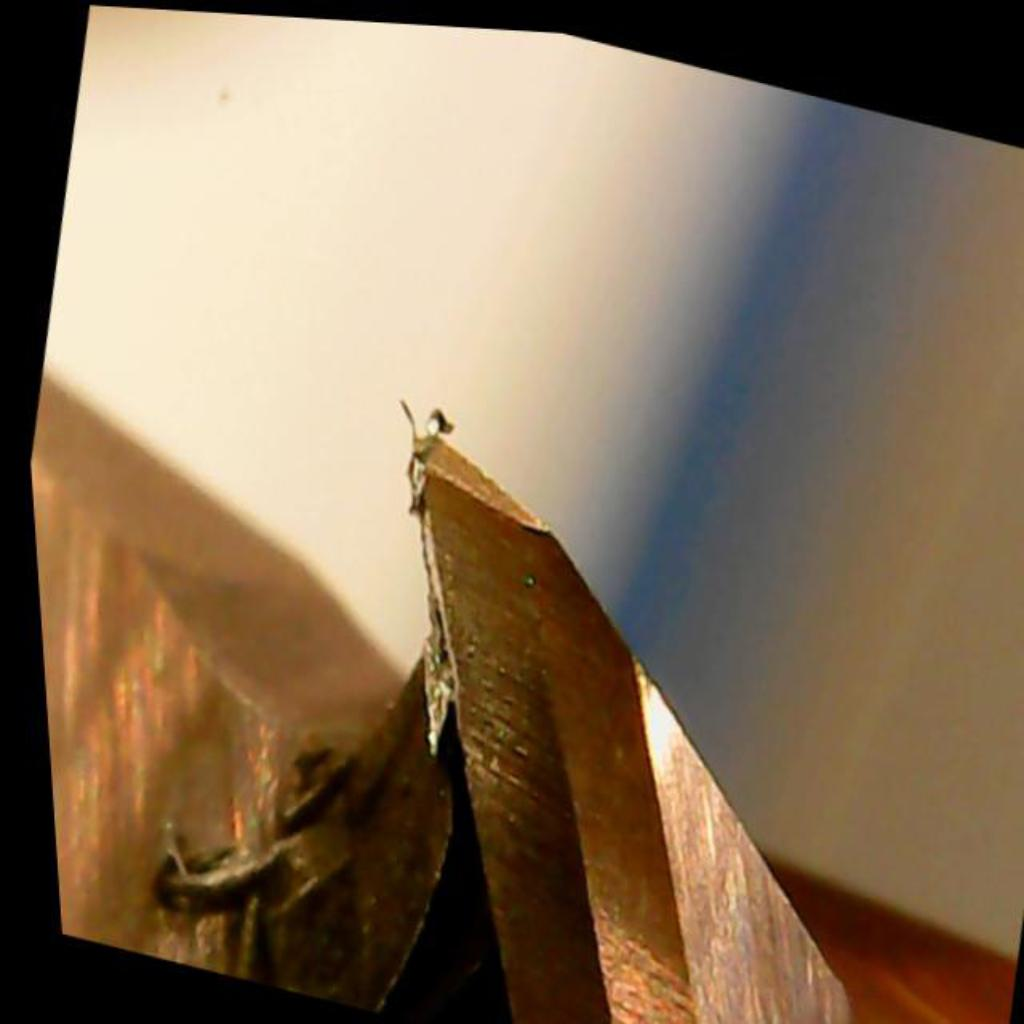Tool-wear-class-2: (291, 375, 681, 942)
